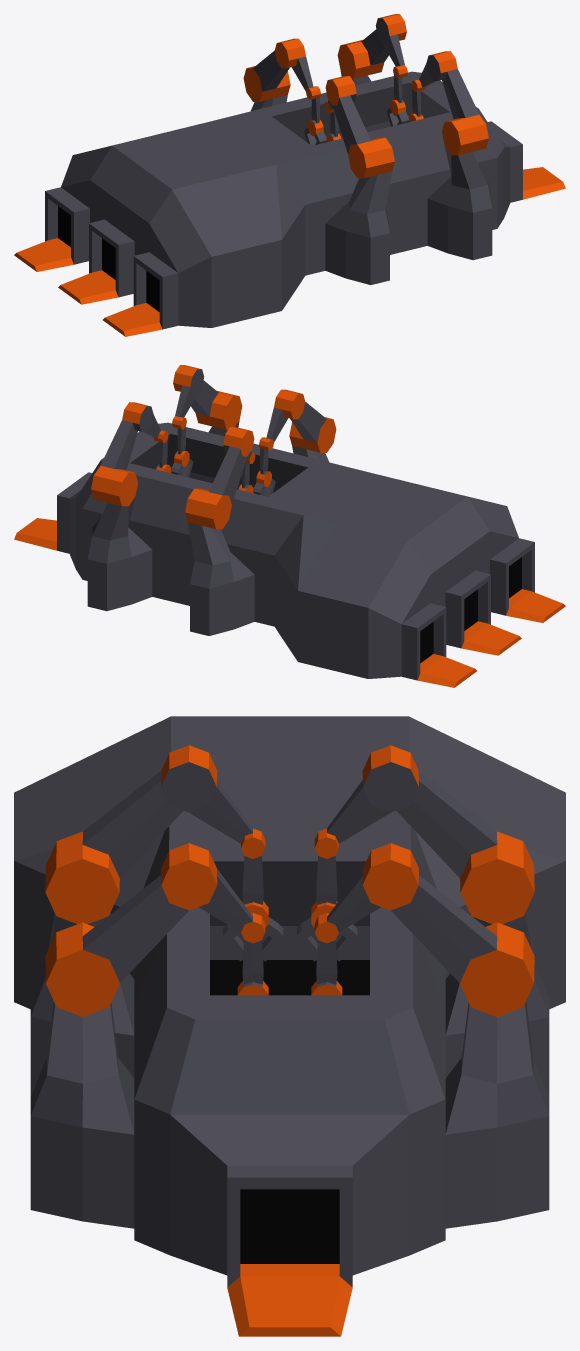
Rendered from ApplianceStation.fbx.
The picture shows the model from 3 angles, top to bottom: view 1: azimuth 30°, elevation 25°; view 2: azimuth 150°, elevation 25°; view 3: azimuth 270°, elevation 25°; orthographic projection. The views are drawn at different scales.
Parts seen in each view (by area): view 1: Cube; view 2: Cube; view 3: Cube.
Boxes of the visible parts, left/top/right/bottom form: Cube: left=14, top=14, right=565, bottom=336; Cube: left=14, top=365, right=565, bottom=687; Cube: left=14, top=716, right=565, bottom=1336.
Bounding box in the file's own units: 1069 × 376 × 532.
